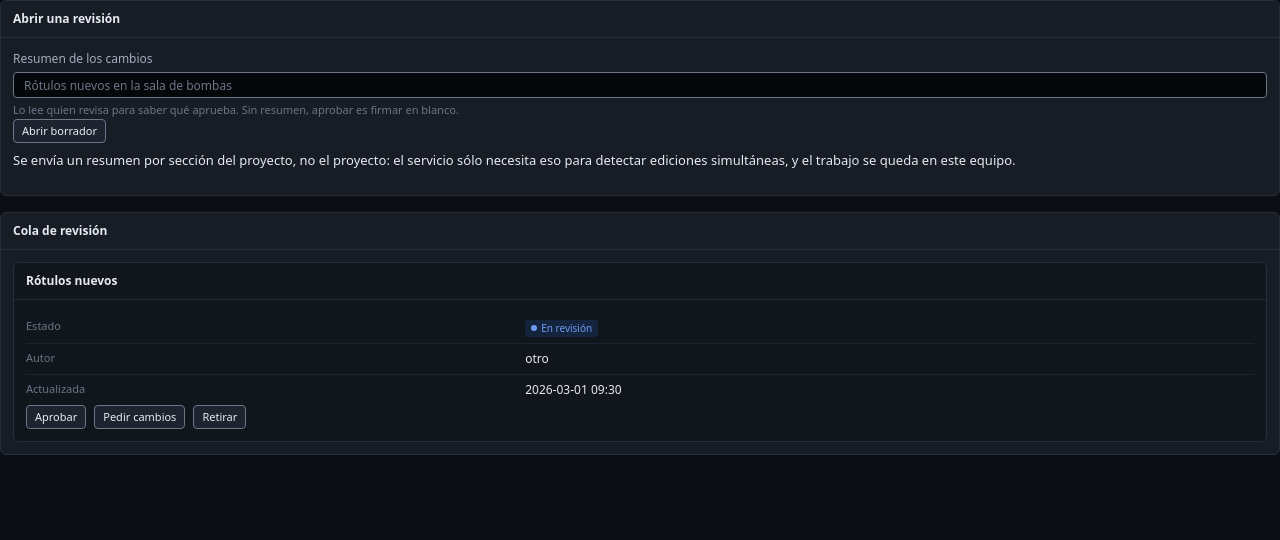
Scenario: ReviewModule › muestra el motivo y la salida cuando el servicio rechaza
Expected: the text "En revisión" is shown, [525, 320, 598, 336]
Click the button "Aprobar": (56, 416) [26, 404, 86, 428]
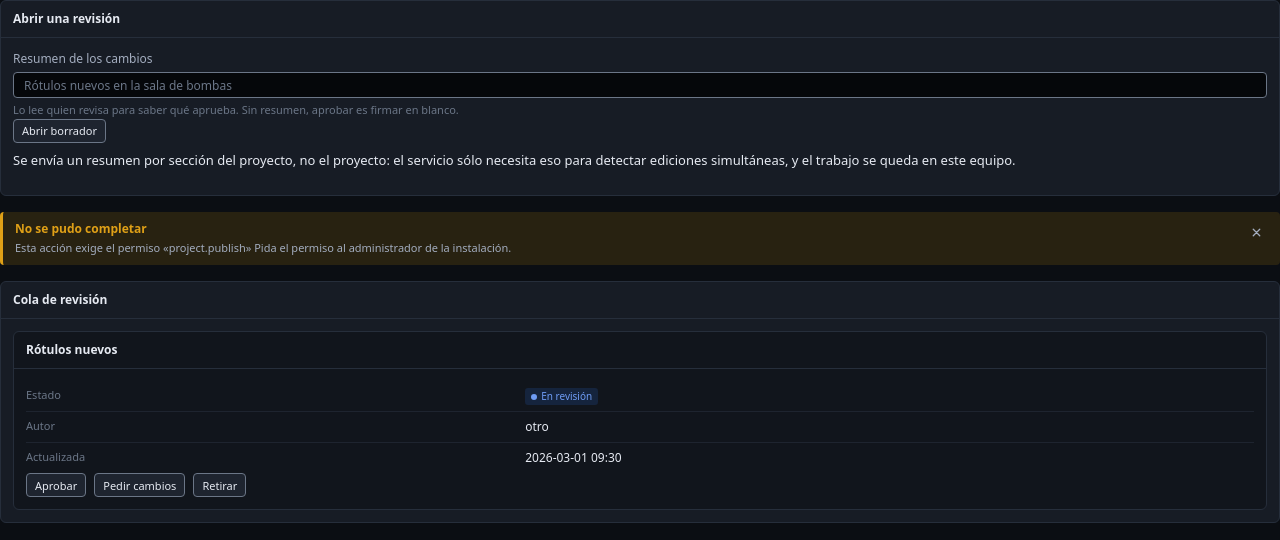
Now the text "Pida el permiso al administrador" is shown, box [15, 240, 511, 255]
